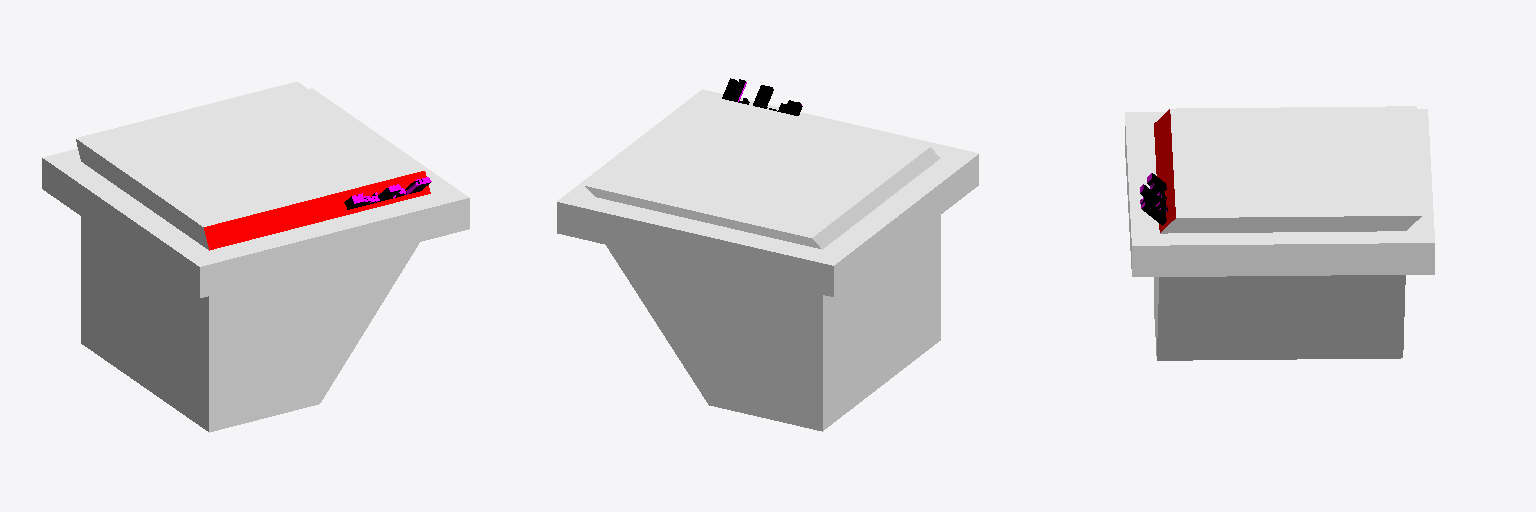
Rendered from maxOno.obj.
3 renders of one model, left to right at view 1: azimuth 30°, elevation 25°; view 2: azimuth 150°, elevation 25°; view 3: azimuth 270°, elevation 25°, orthographic.
Visible parts, largest first — view 1: Mesh14 Model; view 2: Mesh14 Model; view 3: Mesh14 Model.
Part boxes in pixels (bbox=[...]): Mesh14 Model: bbox=[42, 82, 469, 432]; Mesh14 Model: bbox=[557, 89, 978, 431]; Mesh14 Model: bbox=[1125, 106, 1434, 360].
Size of the model in its own units: 271 by 192 by 260.